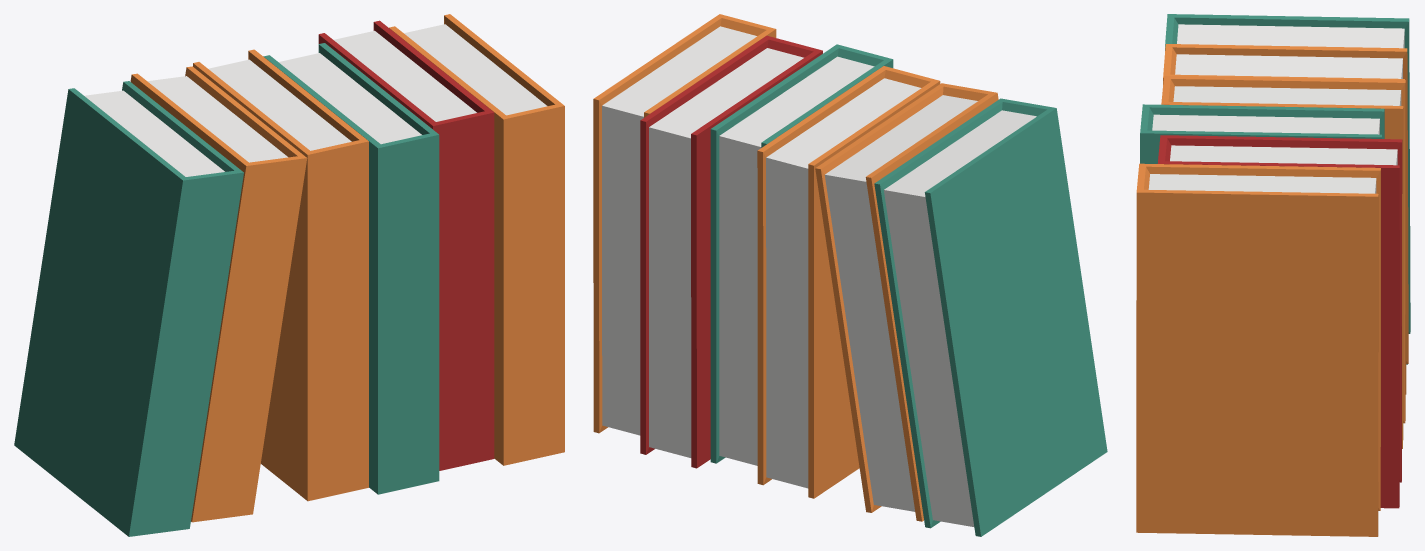
The model's file is Books_3.fbx.
3 renders of one model, left to right at view 1: azimuth 30°, elevation 25°; view 2: azimuth 150°, elevation 25°; view 3: azimuth 270°, elevation 25°, orthographic. The views are drawn at different scales.
Parts seen in each view (by area): view 1: Books_3; view 2: Books_3; view 3: Books_3.
Boxes of the visible parts, left/top/right/bottom form: Books_3: left=14, top=14, right=564, bottom=536; Books_3: left=593, top=14, right=1107, bottom=536; Books_3: left=1136, top=14, right=1410, bottom=536.
Bounding box in the file's own units: 61.21 × 34.57 × 47.82.
